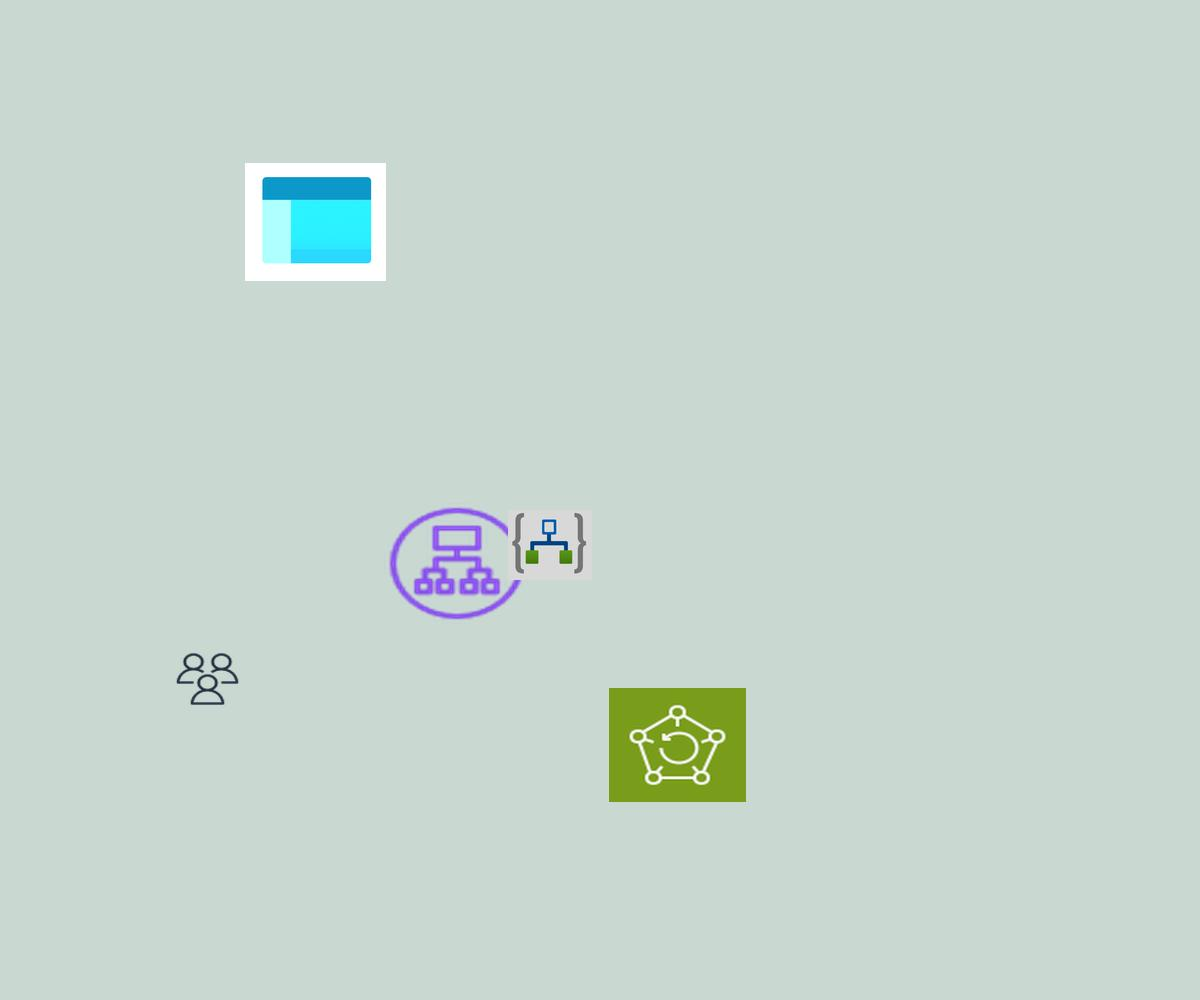AWS-Backup: (609, 688, 746, 802)
AWS-Res_Elastic-Load-Balancing_Application-Load-Balancer: (384, 503, 530, 624)
AWS-Res_Users: (174, 651, 241, 707)
Azure_integration-204-Logic-Apps: (508, 510, 592, 580)
Azure_management-portal: (245, 163, 386, 281)
